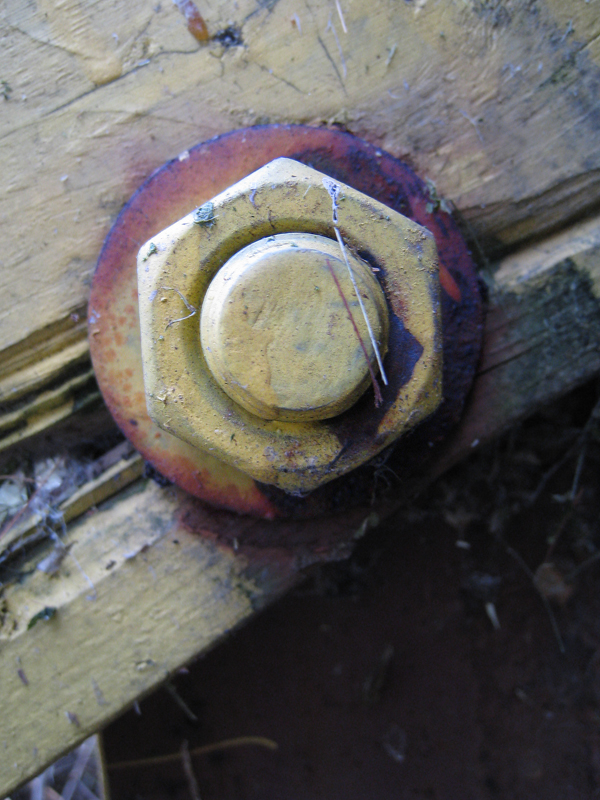bolt_b: (136, 153, 448, 502)
